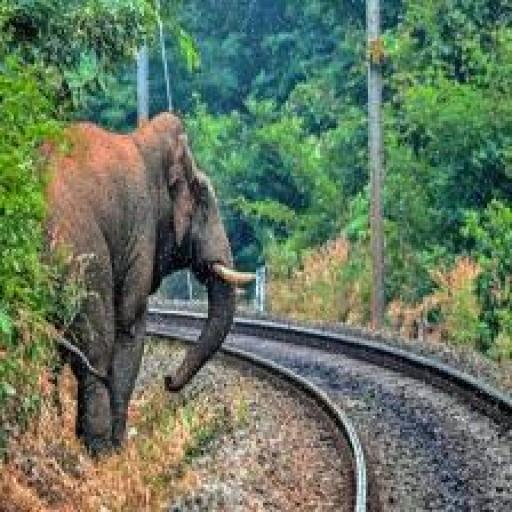Elephant: (14, 112, 260, 456)
